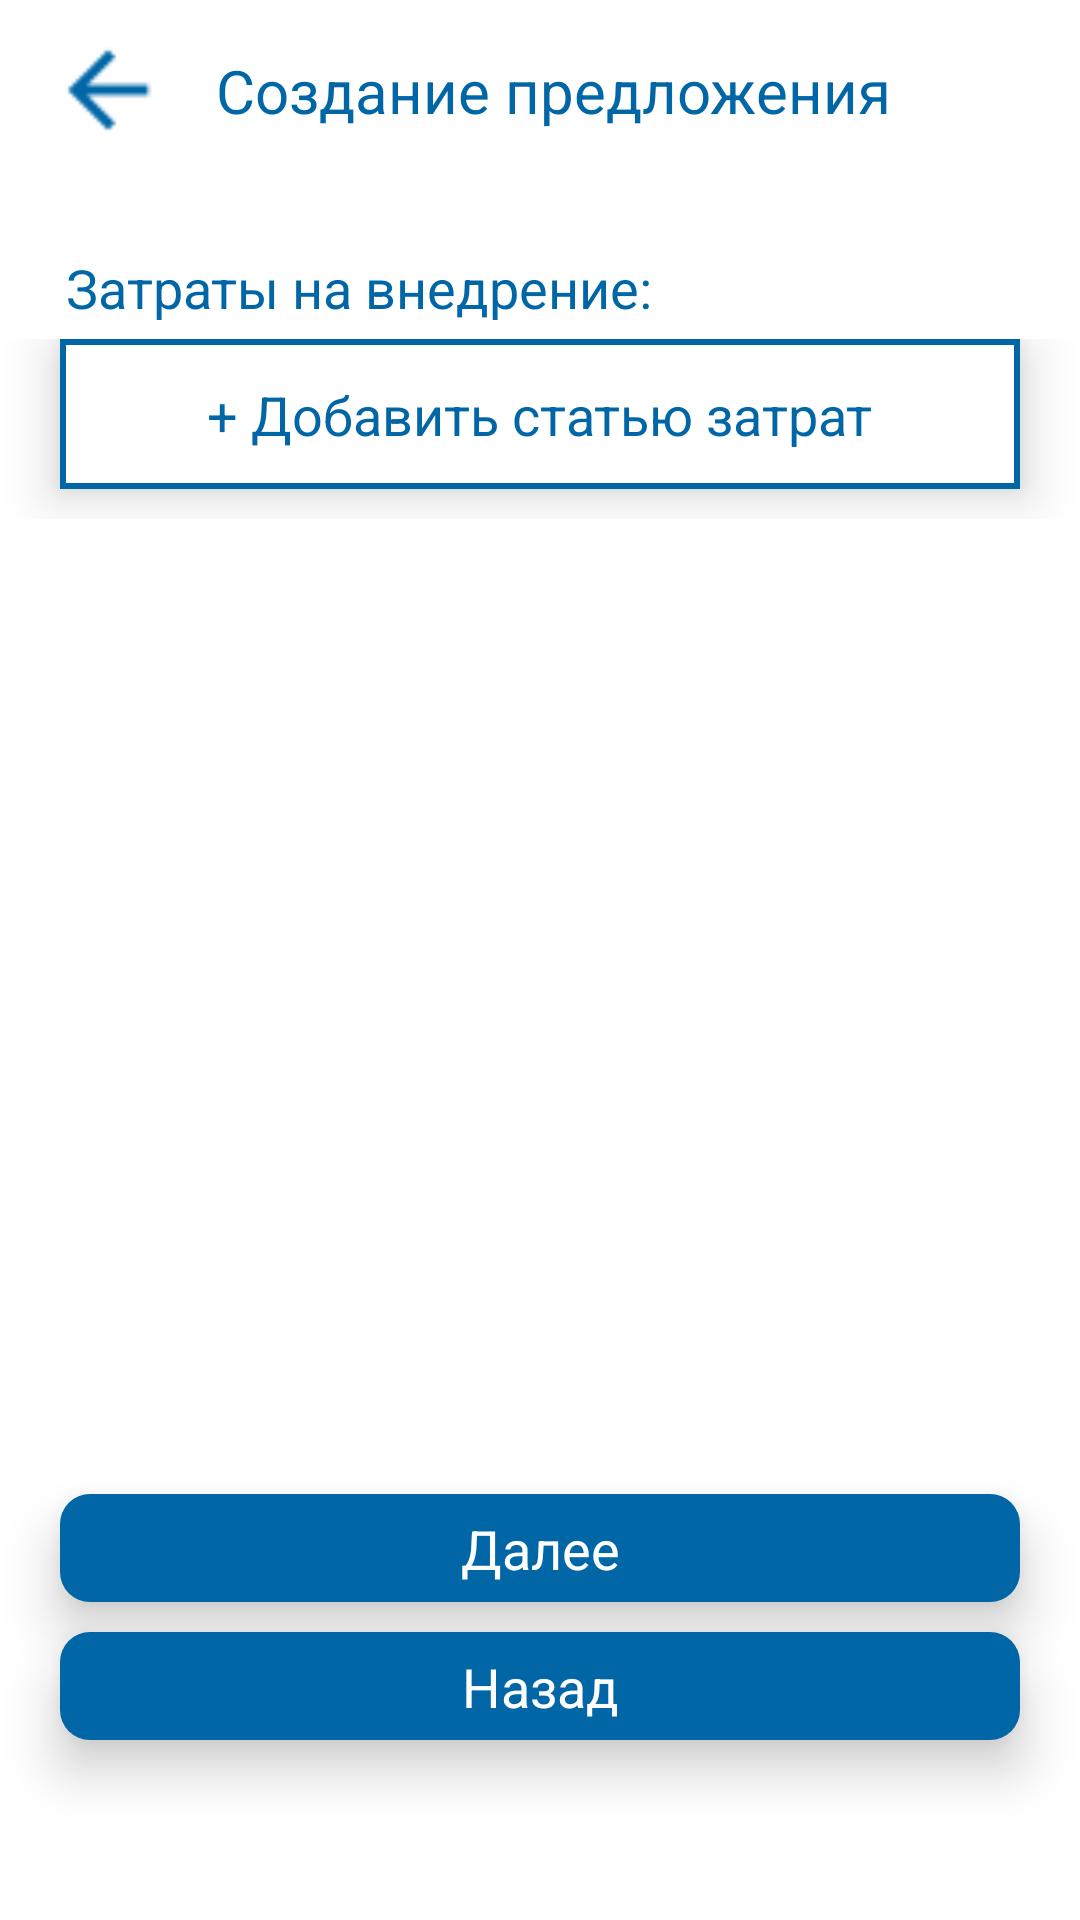

Where icons sit on this 1080x1920 app screen, as (x1, y1, x2, y2):
arrow back: (68, 50, 151, 130)
